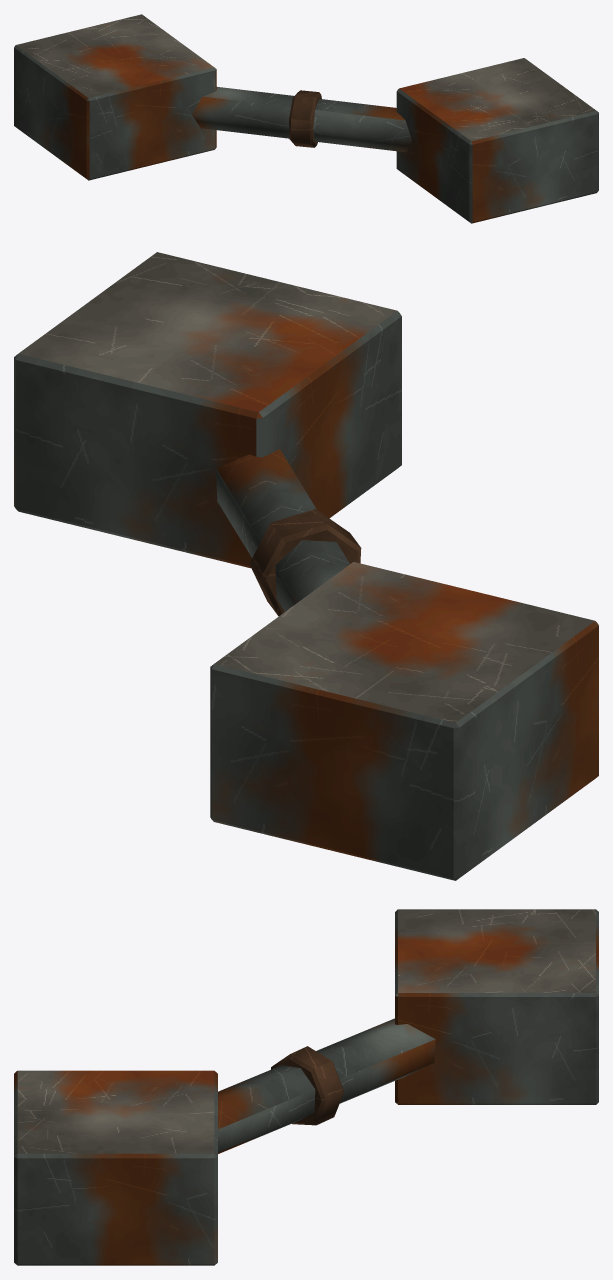
The model's file is R4C_ROD_DIAG_2D_SHORT_LOD1.glb.
3 renders of one model, top to bottom at view 1: azimuth 30°, elevation 25°; view 2: azimuth 150°, elevation 25°; view 3: azimuth 270°, elevation 25°, orthographic. The views are drawn at different scales.
Parts seen in each view (by area): view 1: R4C_ROD_DIAG_2D_SHORT_LOD1; view 2: R4C_ROD_DIAG_2D_SHORT_LOD1; view 3: R4C_ROD_DIAG_2D_SHORT_LOD1.
Part boxes in pixels (x1,y1,x2,y2): R4C_ROD_DIAG_2D_SHORT_LOD1: [14, 14, 598, 223]; R4C_ROD_DIAG_2D_SHORT_LOD1: [14, 252, 598, 880]; R4C_ROD_DIAG_2D_SHORT_LOD1: [14, 909, 598, 1265].
Size of the model in its own units: 1.07 by 0.226 by 1.07.
Materials: 3 (3 with a texture image).
